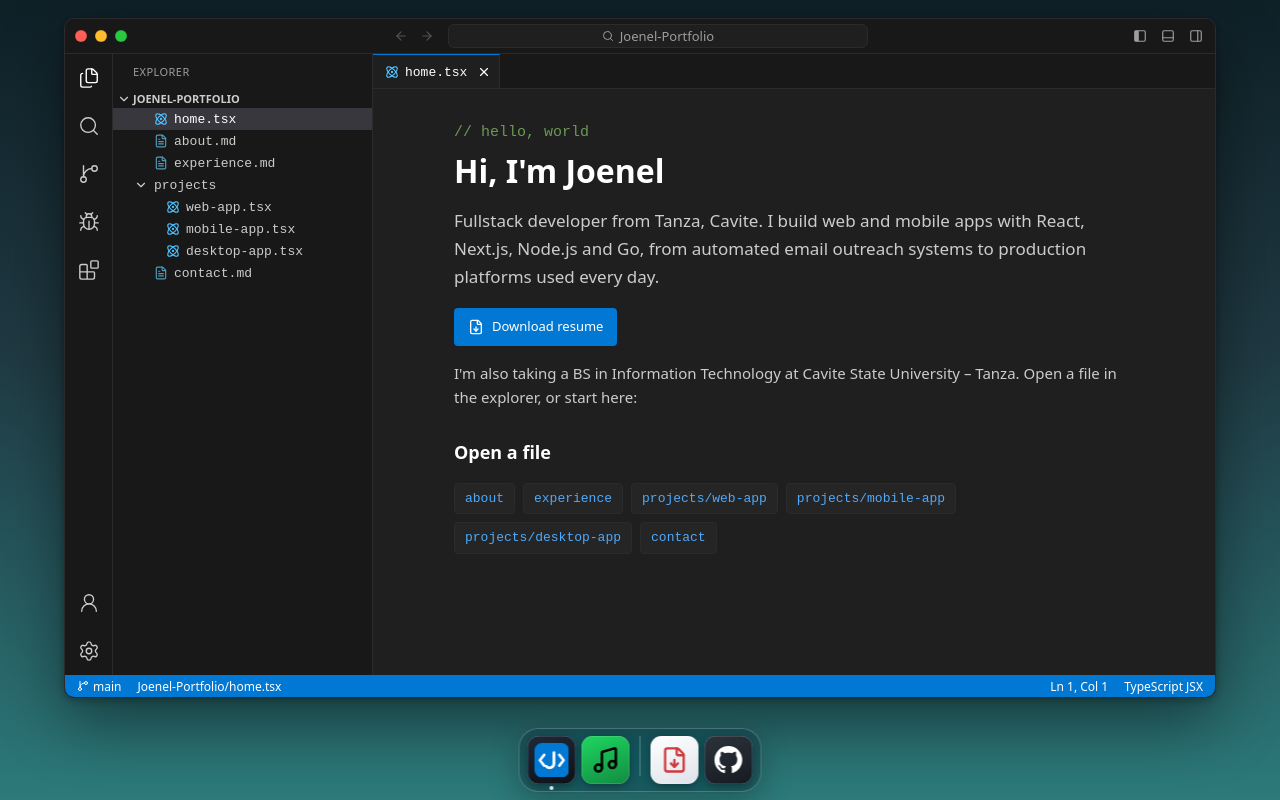
Scenario: EditorWindow (desktop) › closing a tab with its x
The width and height of the screenshot is (1280, 800).
Click the list item "about.md": point(195, 141) [154, 134, 236, 148]
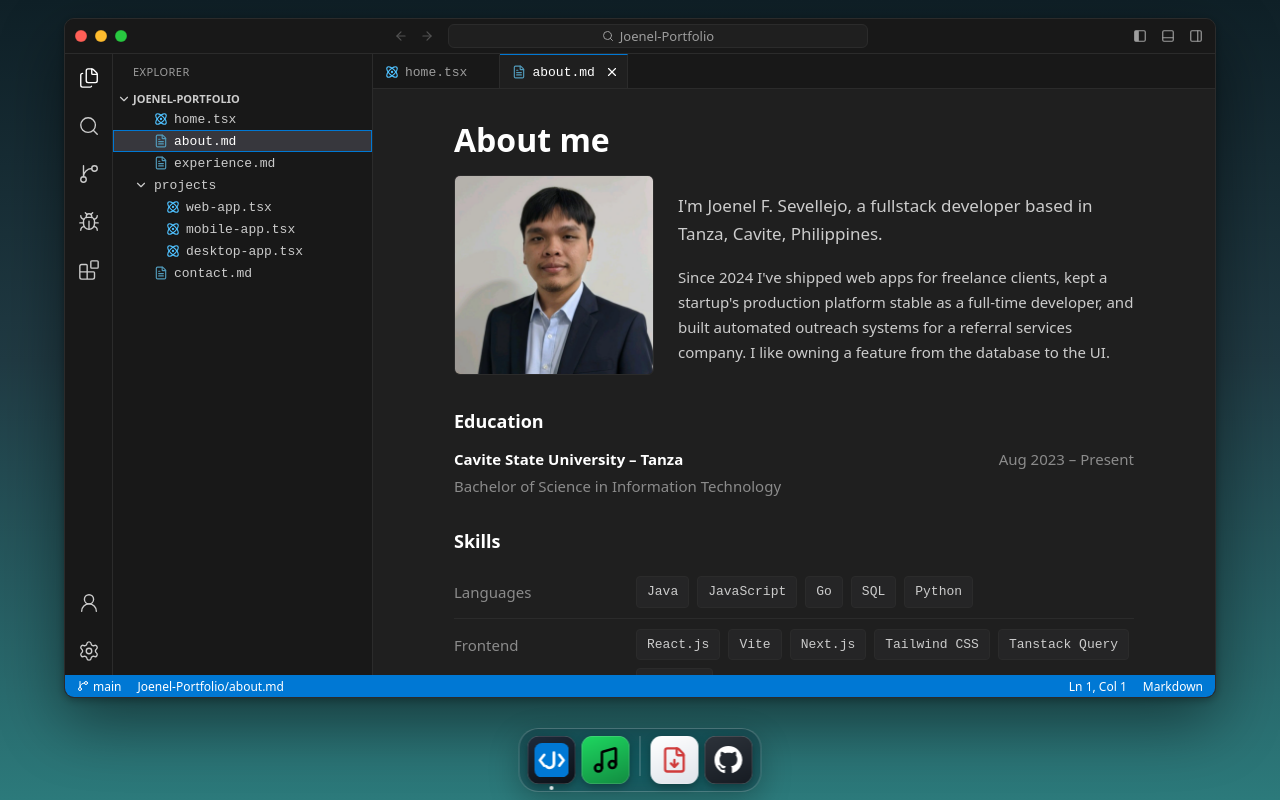
Click the button named "Close about.md": point(610, 72) [599, 61, 621, 83]
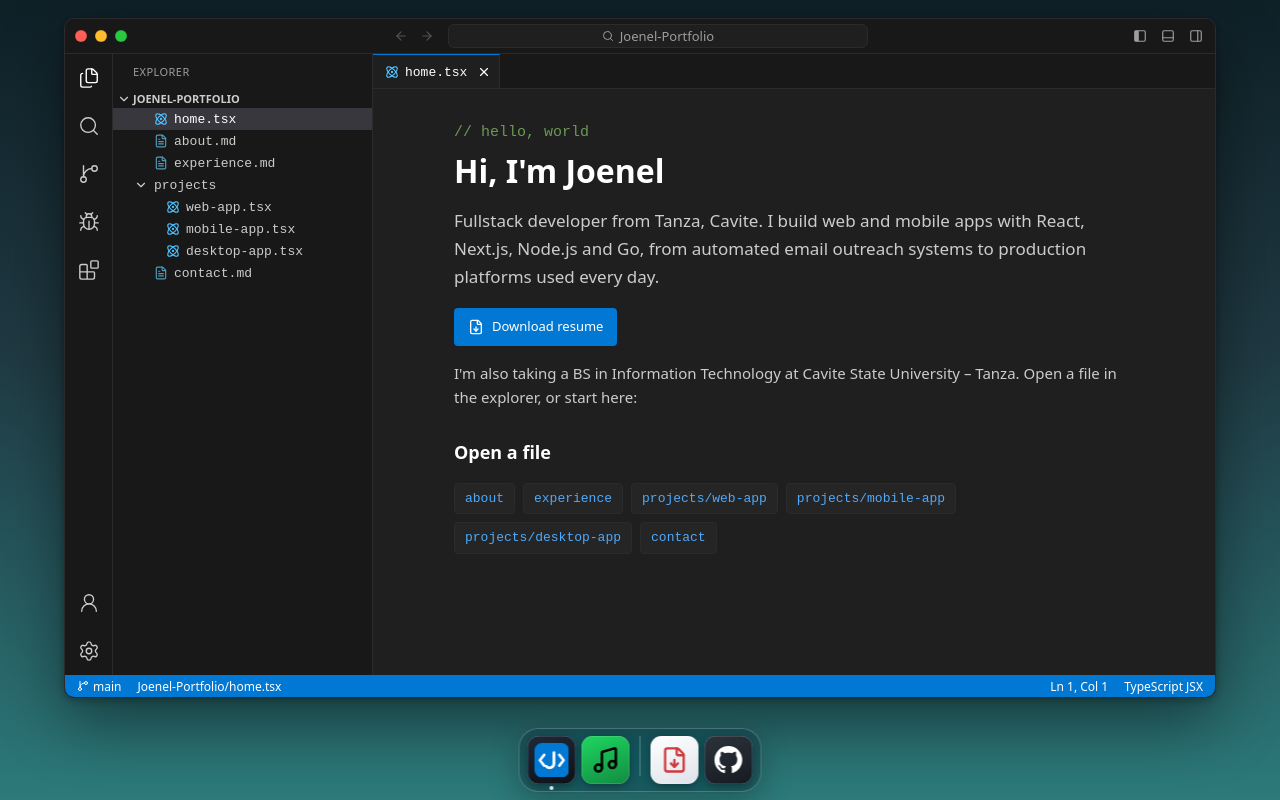
Result: the heading "Hi, I'm Joenel" is shown at [454, 149, 664, 192]
